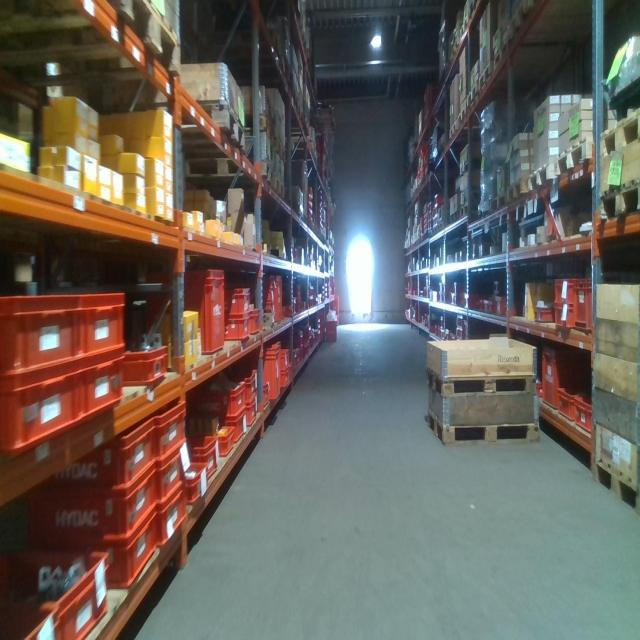pallet: (4, 2, 182, 83), (104, 105, 249, 161), (426, 359, 538, 394), (426, 414, 541, 442), (590, 450, 636, 514), (176, 164, 271, 192), (597, 108, 639, 160), (594, 182, 638, 224), (559, 139, 596, 181), (239, 107, 271, 151), (528, 155, 556, 202), (508, 179, 529, 214), (504, 16, 526, 46), (488, 192, 509, 220), (264, 170, 280, 202), (271, 131, 286, 159), (481, 63, 492, 101), (492, 42, 505, 70), (467, 1, 488, 17), (460, 95, 470, 126), (448, 115, 459, 141), (470, 81, 479, 111)
small_load_carrier: (42, 414, 158, 493), (36, 467, 158, 540), (11, 555, 109, 640), (1, 292, 87, 385), (1, 366, 85, 461), (158, 262, 229, 370), (87, 514, 158, 591), (78, 349, 128, 422), (77, 293, 129, 359), (121, 343, 171, 401), (541, 347, 577, 416), (187, 380, 251, 418), (159, 485, 196, 543), (154, 445, 188, 504), (1, 605, 58, 640), (159, 400, 187, 456), (184, 433, 225, 468), (181, 461, 208, 510), (556, 382, 586, 424), (260, 342, 280, 405), (572, 275, 591, 331), (200, 422, 235, 452), (230, 366, 256, 406), (270, 276, 287, 331), (225, 285, 248, 319), (554, 271, 578, 301), (225, 316, 248, 346), (574, 395, 594, 426), (245, 313, 263, 343), (553, 305, 572, 328), (231, 412, 249, 436), (535, 305, 556, 324), (495, 295, 509, 314), (325, 319, 337, 340), (260, 273, 274, 290), (261, 286, 274, 304), (295, 284, 303, 313), (282, 363, 293, 384), (279, 349, 287, 373)
